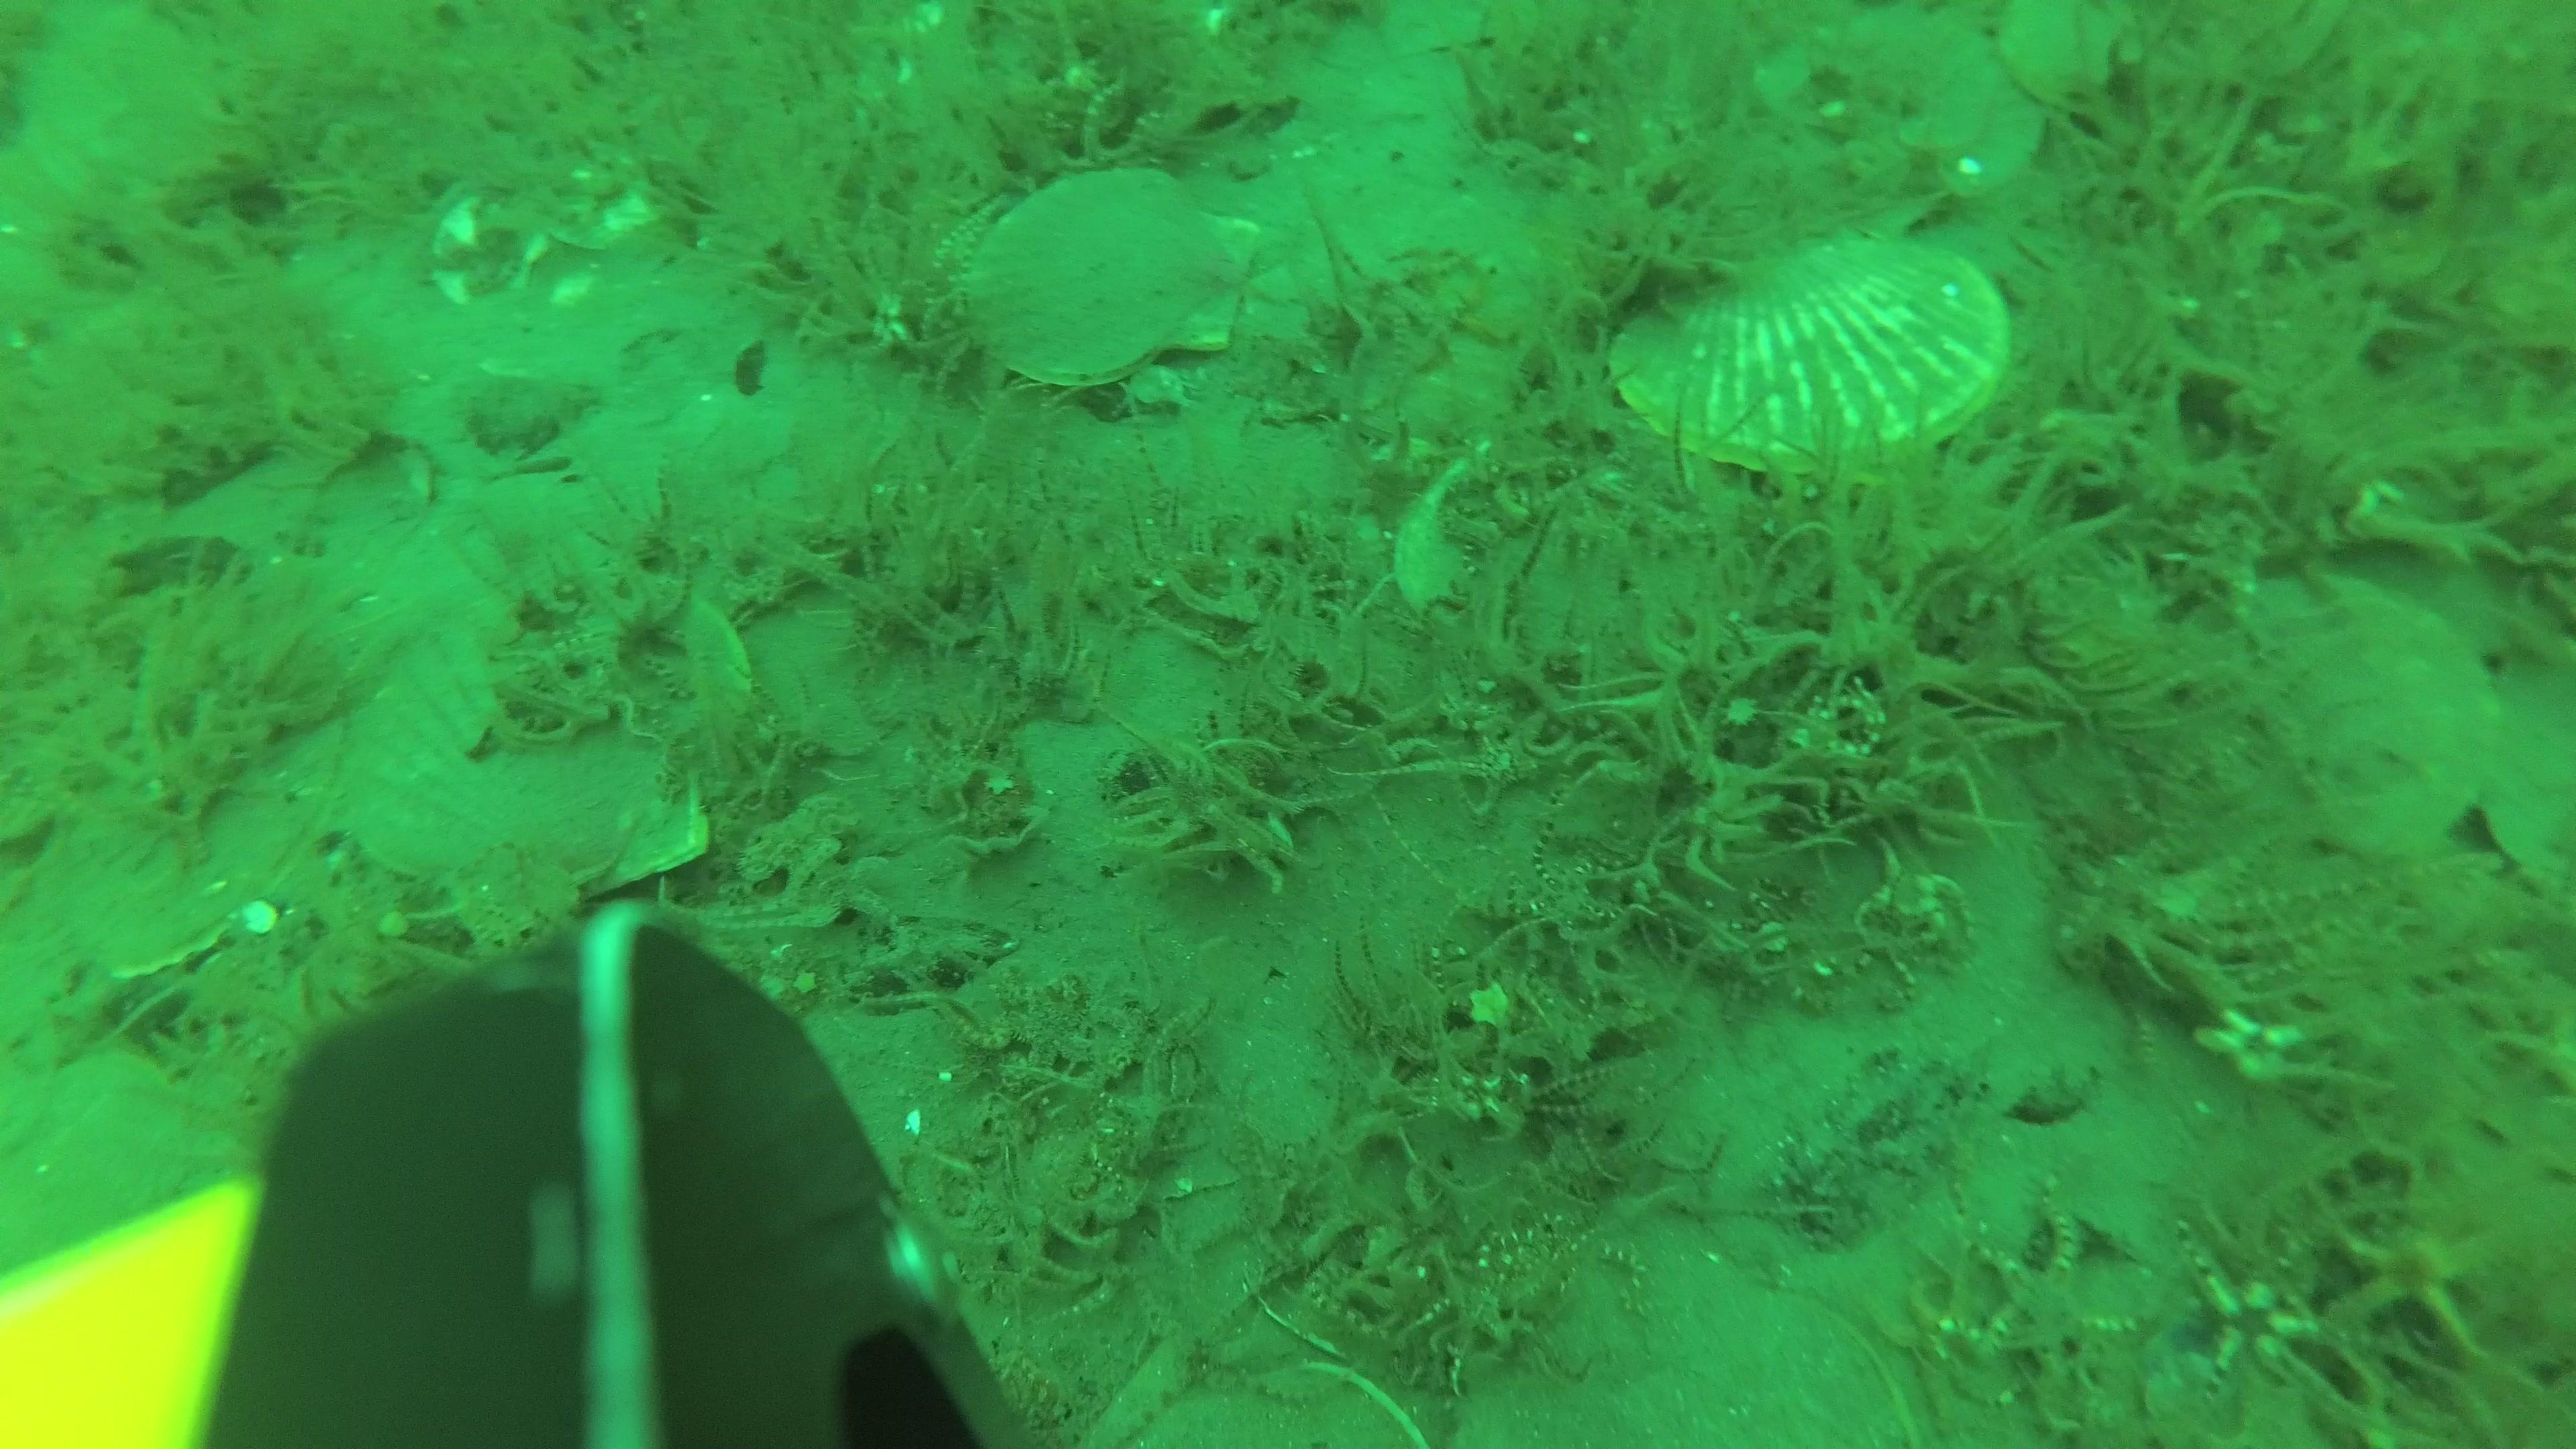scallop: (357, 580, 755, 908), (1608, 232, 2015, 464), (2270, 573, 2500, 851), (966, 168, 1260, 382), (1990, 0, 2341, 113)
